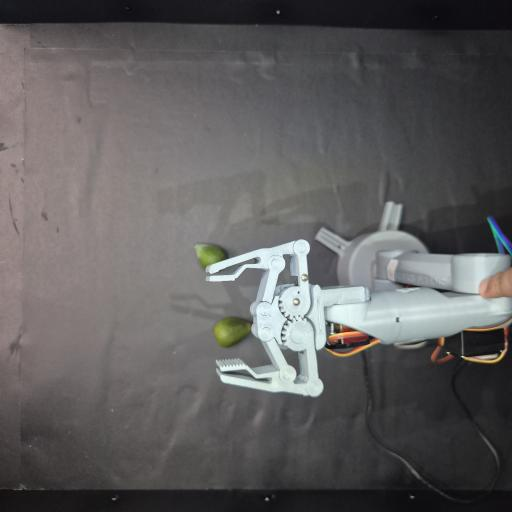higo: (214, 317, 252, 348), (195, 244, 227, 269)
